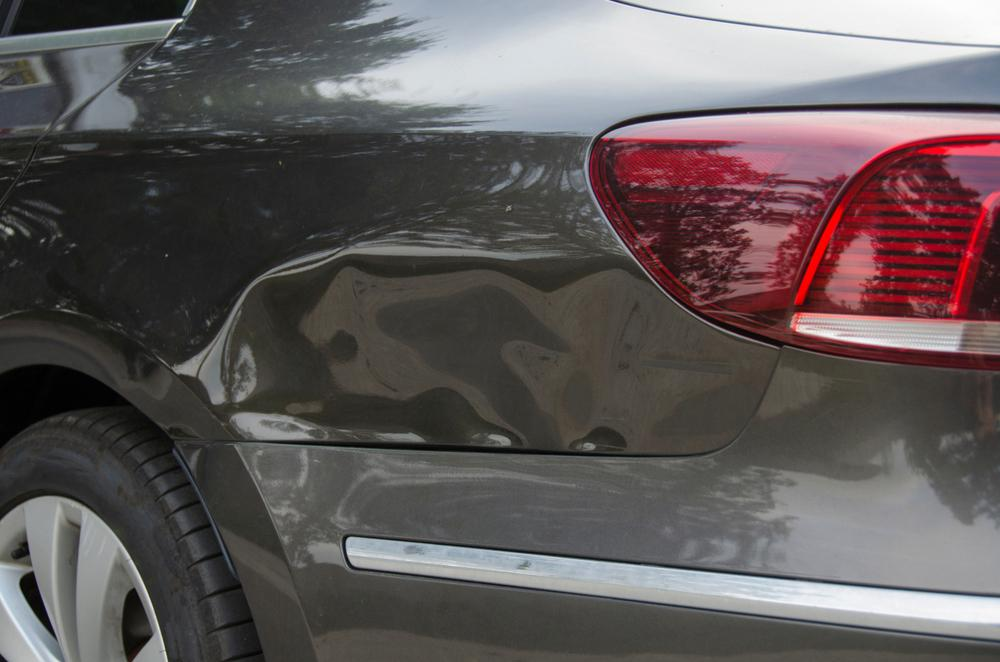dent: (193, 252, 769, 455)
